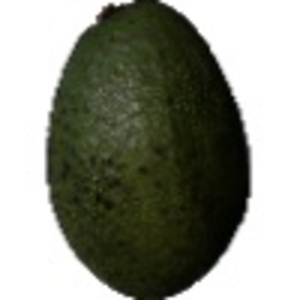abacate: (44, 3, 253, 297)
